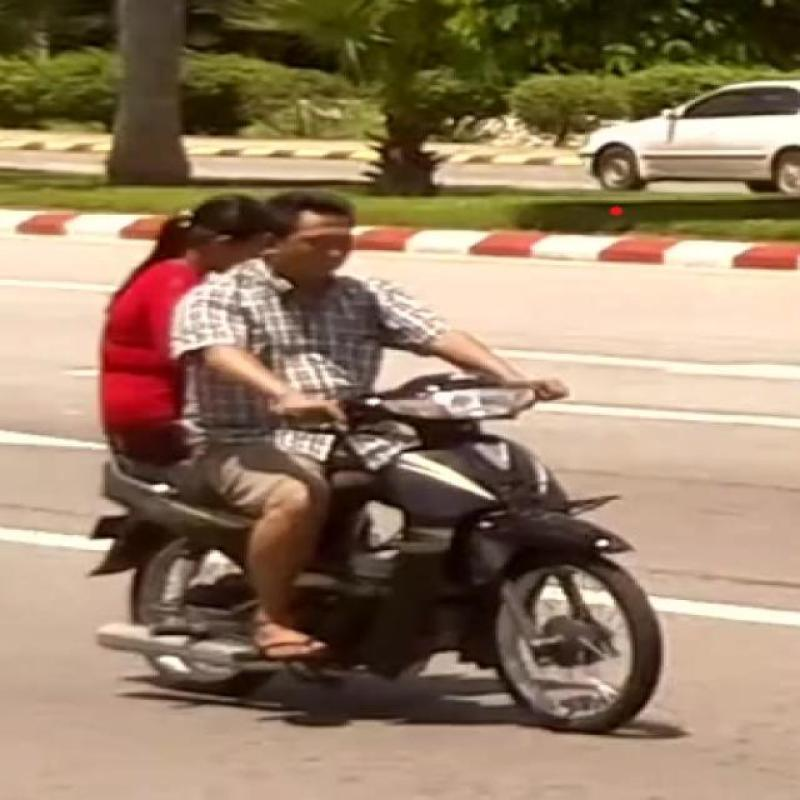nohelmet: (256, 185, 414, 296)
